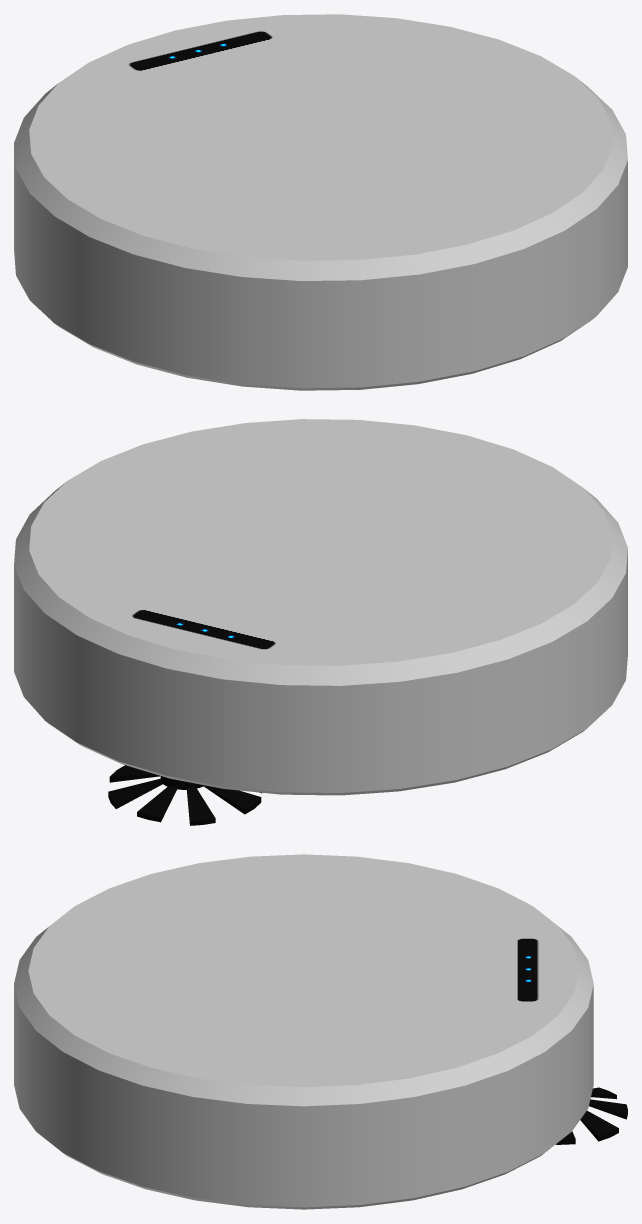
File: vacuum_cleaner.gltf
The picture shows the model from 3 angles, top to bottom: view 1: azimuth 30°, elevation 25°; view 2: azimuth 150°, elevation 25°; view 3: azimuth 270°, elevation 25°; orthographic projection. The views are drawn at different scales.
Parts seen in each view (by area): view 1: robot; view 2: robot, cleaner; view 3: robot, cleaner.
Boxes of the visible parts, box(x1,y1,x2,y2) form: robot: box(14, 14, 627, 390); robot: box(14, 419, 627, 795); cleaner: box(108, 765, 261, 825); robot: box(14, 854, 593, 1209); cleaner: box(556, 1087, 627, 1144).
Size of the model in its own units: 2 by 0.5523 by 2.12.
Materials: 4 (1 with a texture image).
